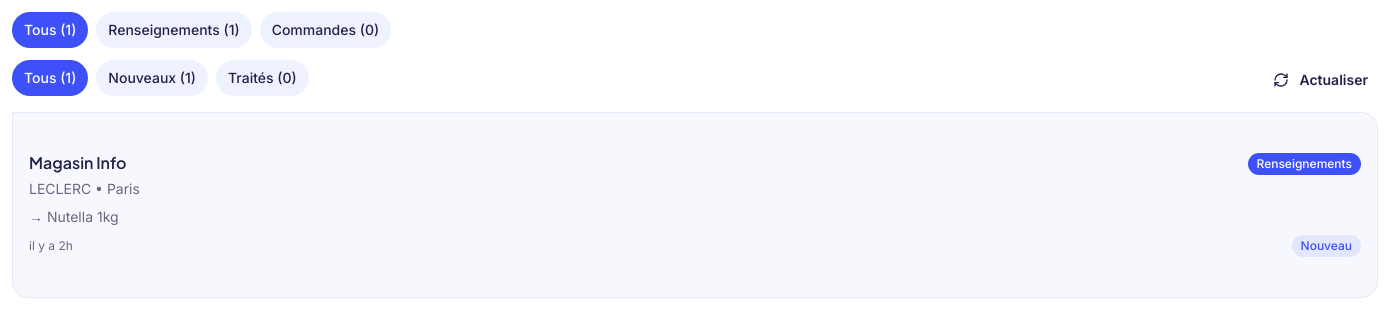
Test: SupplierRequestList › shows filtered empty state with ORDER type message
The image size is (1390, 315).
Click the radio button "Commandes (0)": {"x": 325, "y": 30} [260,12,391,48]
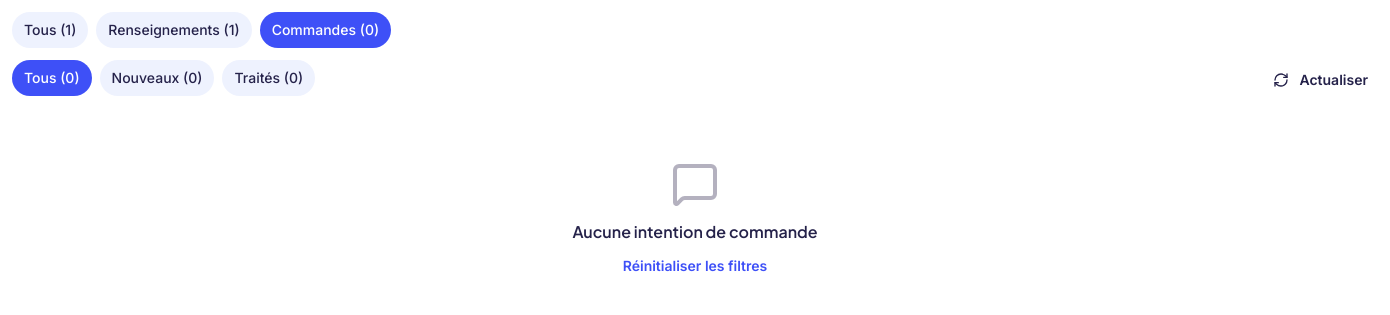
Expected: the text "Aucune intention de commande" is shown, [572,220,818,244]
